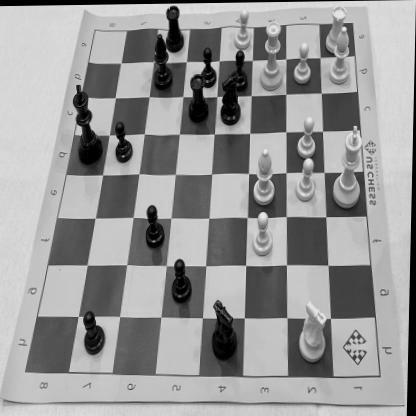black-bishop: (150, 30, 176, 92)
black-king: (68, 76, 108, 166)
black-knight: (209, 294, 244, 362), (217, 71, 245, 128)
black-pawn: (82, 301, 110, 359), (142, 198, 170, 251), (170, 254, 196, 306), (112, 116, 138, 165), (198, 42, 220, 90), (230, 43, 250, 94)
black-rook: (162, 3, 190, 56), (184, 72, 212, 124)
white-bishop: (326, 24, 354, 88), (251, 144, 279, 208)
white-king: (329, 122, 367, 212)
white-knight: (296, 296, 332, 366)
white-pawn: (294, 154, 319, 206), (252, 208, 277, 260), (295, 113, 319, 162), (232, 6, 254, 52), (292, 40, 314, 86)
white-queen: (258, 16, 286, 92)
white-rook: (322, 1, 348, 56)
